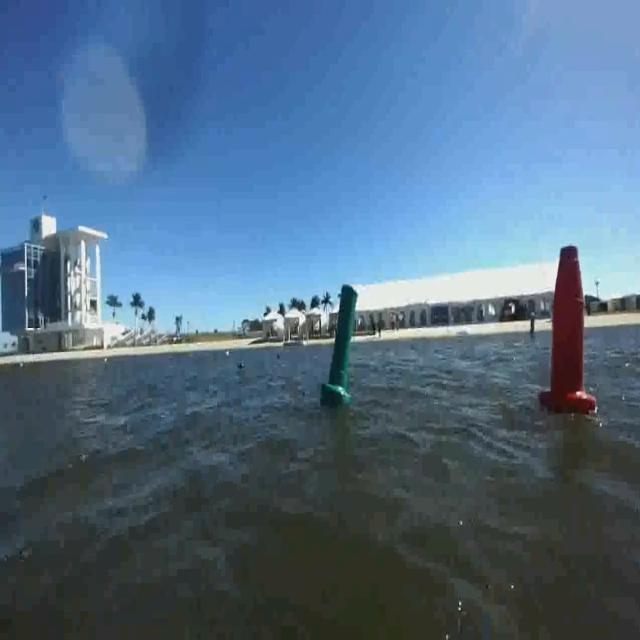green-column-buoy: (321, 282, 360, 406)
red-column-buoy: (541, 241, 597, 417)
